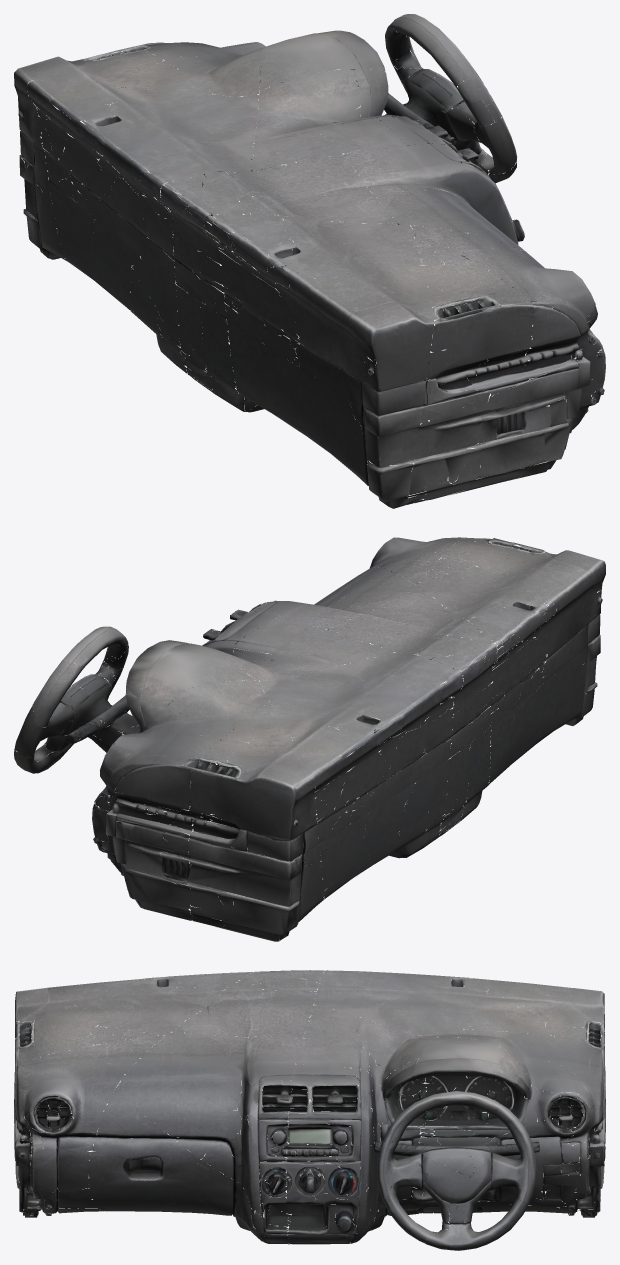
File: car_dash_prop.glb
3 views of the same model, one above another, from view 1: azimuth 30°, elevation 25°; view 2: azimuth 150°, elevation 25°; view 3: azimuth 270°, elevation 25° (orthographic). The views are drawn at different scales.
Visible parts, largest first — view 1: prop_car_dash; view 2: prop_car_dash; view 3: prop_car_dash.
Boxes of the visible parts, bbox=[...] form: prop_car_dash: bbox=[14, 14, 605, 508]; prop_car_dash: bbox=[14, 537, 605, 941]; prop_car_dash: bbox=[14, 970, 605, 1250].
Bounding box in the file's own units: 0.6501 × 0.3335 × 0.9814.
Materials: 1 (1 with a texture image).
